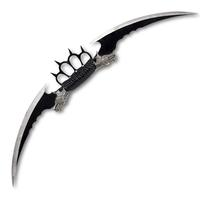knife: (10, 2, 193, 193)
